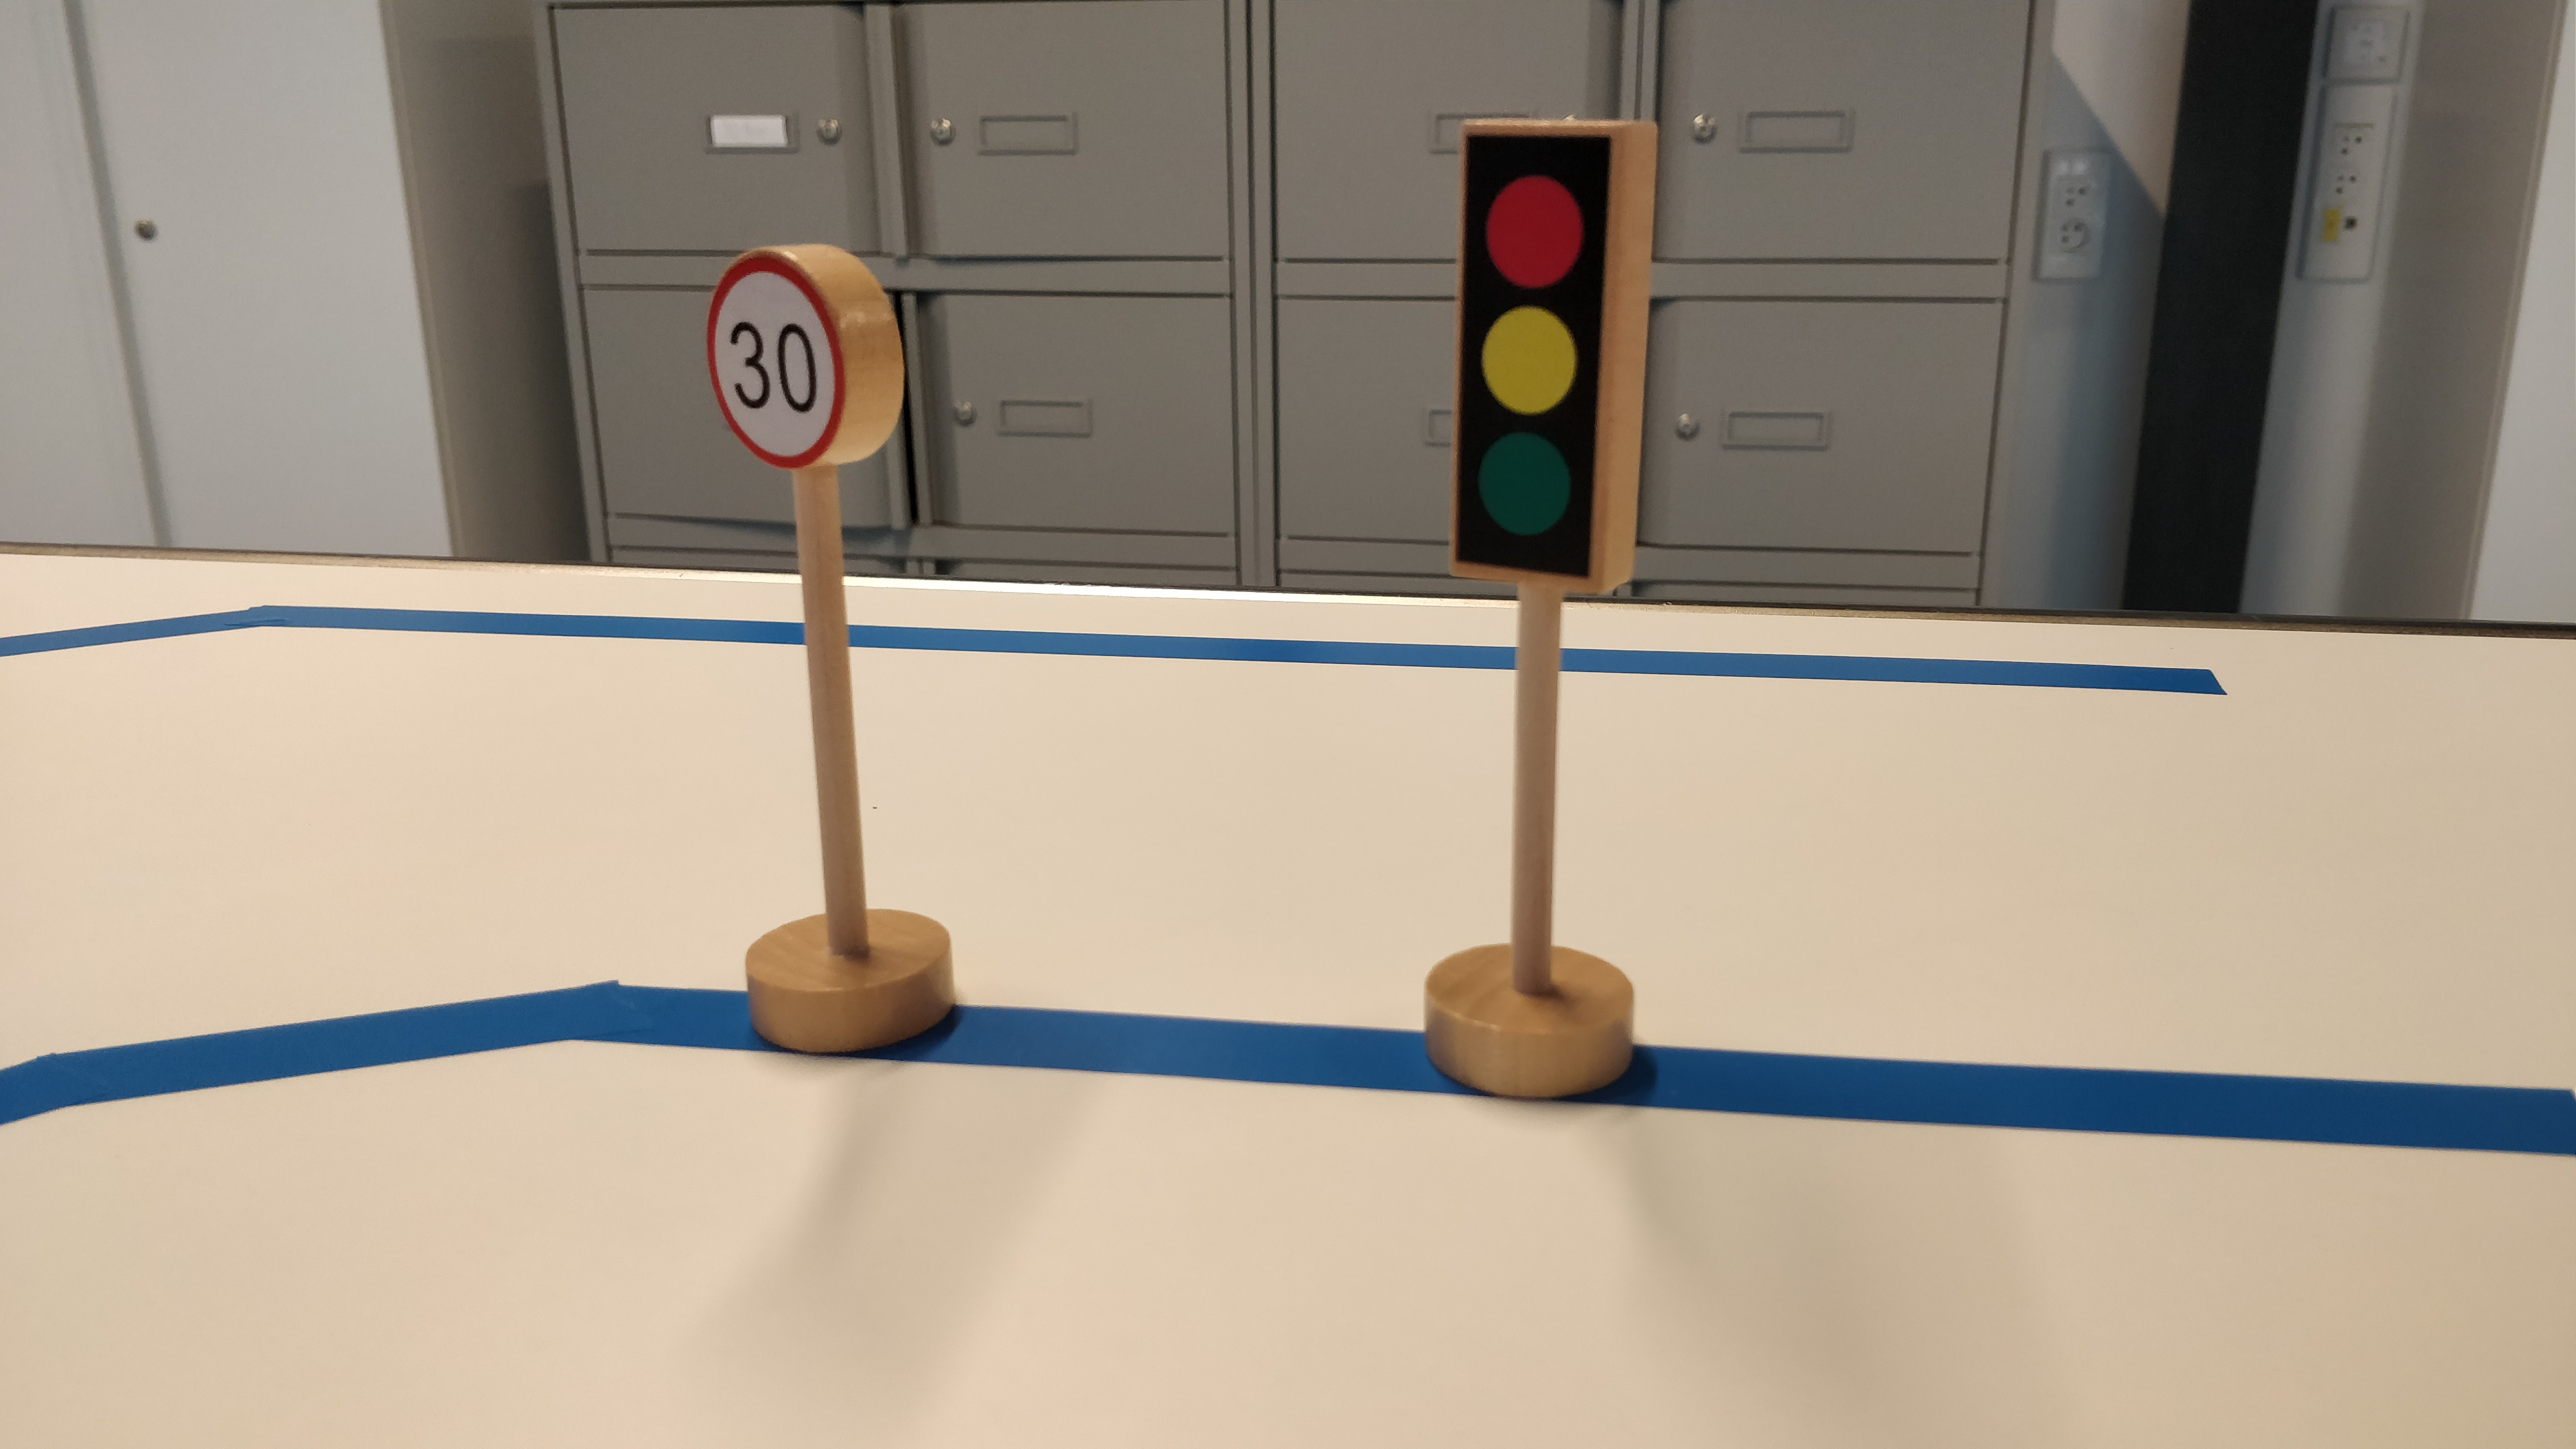Speed Limit 30: (699, 241, 908, 475)
Traffic Light: (1448, 115, 1660, 602)
